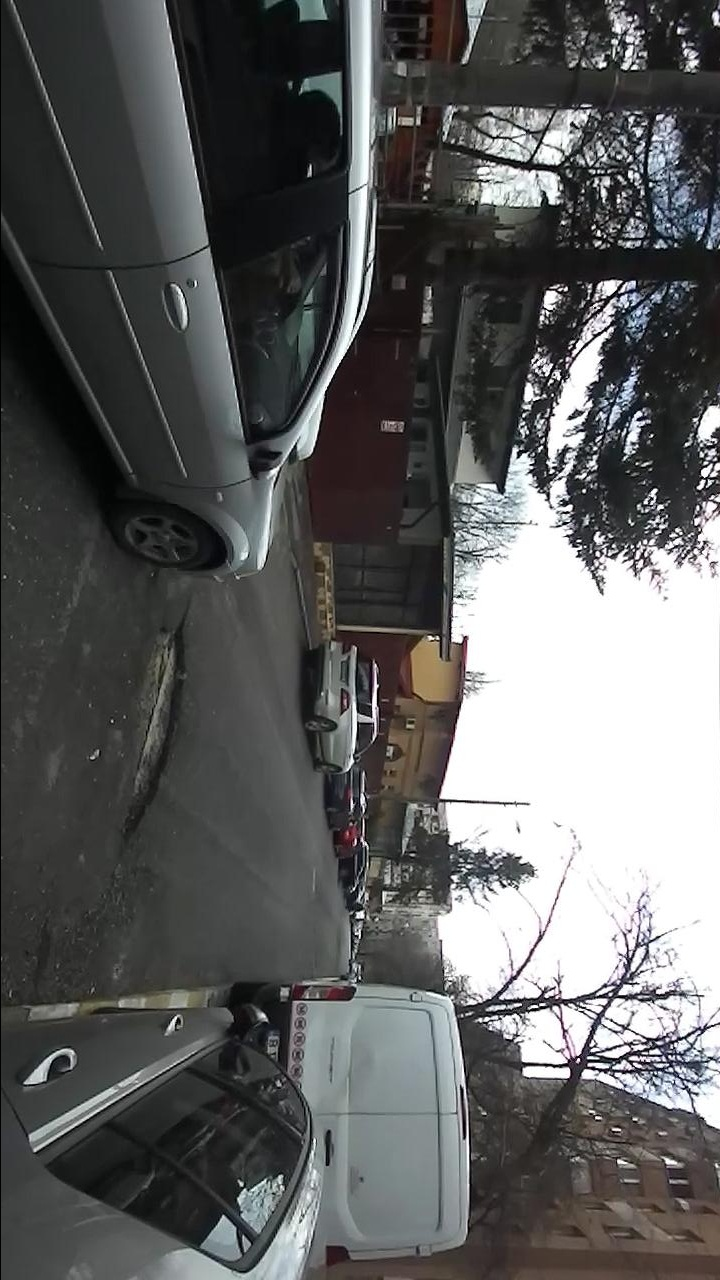pothole: (109, 605, 193, 858)
